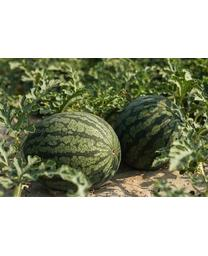watermelon: (21, 112, 120, 189), (115, 93, 185, 176)
